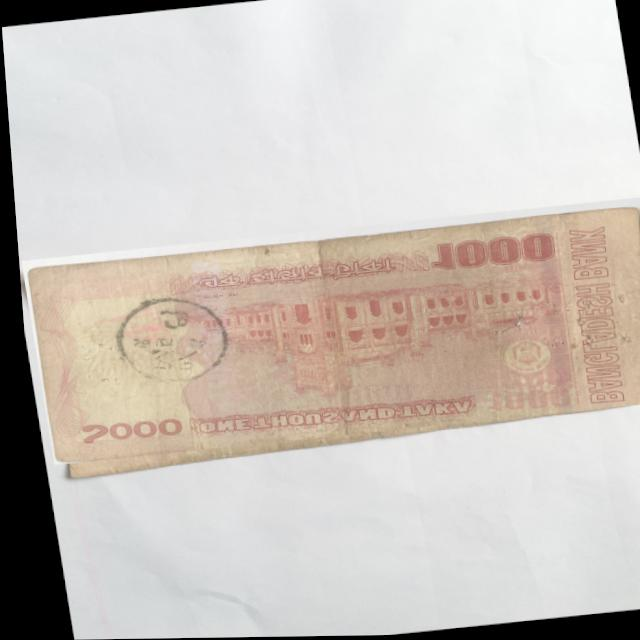Taka: (14, 199, 640, 465)
